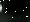person: (1, 1, 3, 11)
